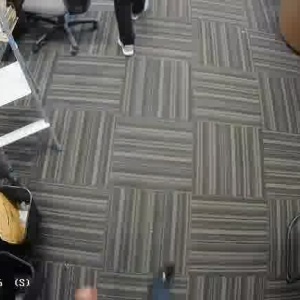person: (110, 0, 151, 60)
